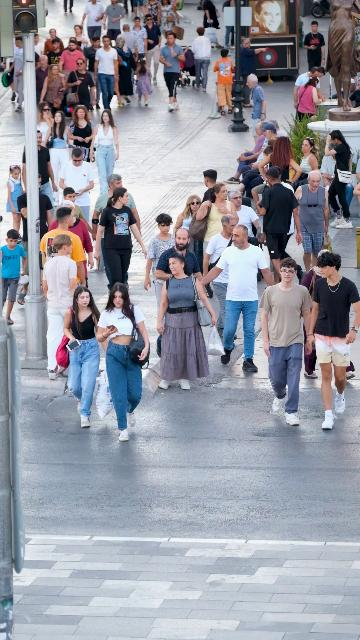person: (200, 225, 276, 374), (306, 251, 360, 431), (258, 258, 313, 426), (96, 282, 150, 441), (156, 251, 217, 391), (62, 287, 102, 428), (94, 187, 147, 292), (256, 165, 303, 283), (42, 234, 78, 380), (203, 213, 239, 342), (144, 212, 177, 351), (39, 206, 88, 288), (195, 183, 239, 274), (297, 249, 327, 379), (294, 170, 329, 273), (321, 130, 354, 229), (48, 204, 96, 271), (234, 123, 276, 199), (59, 147, 95, 228), (92, 174, 141, 231), (0, 229, 29, 325), (22, 130, 59, 205), (89, 110, 120, 197), (17, 174, 56, 243), (42, 110, 72, 195), (155, 227, 202, 281), (226, 121, 266, 184), (258, 136, 303, 191), (159, 31, 186, 112), (173, 194, 202, 269), (64, 58, 97, 123), (94, 35, 119, 111), (183, 27, 212, 92), (225, 190, 262, 239), (239, 38, 269, 98), (243, 73, 267, 145), (293, 66, 325, 119), (69, 105, 97, 164), (6, 165, 27, 242), (58, 187, 92, 234), (251, 145, 273, 214), (213, 49, 235, 116), (293, 136, 319, 192), (294, 77, 325, 123), (116, 37, 137, 103), (38, 63, 66, 112), (143, 14, 162, 86), (84, 36, 102, 110), (302, 20, 326, 72), (102, 0, 125, 45), (59, 36, 86, 73), (80, 0, 104, 39), (135, 57, 153, 107), (117, 24, 138, 62), (35, 55, 49, 104), (201, 169, 222, 201), (44, 38, 62, 73), (42, 28, 58, 61), (70, 25, 91, 49), (269, 119, 289, 138), (14, 36, 23, 72), (114, 76, 124, 108), (34, 33, 46, 59)
